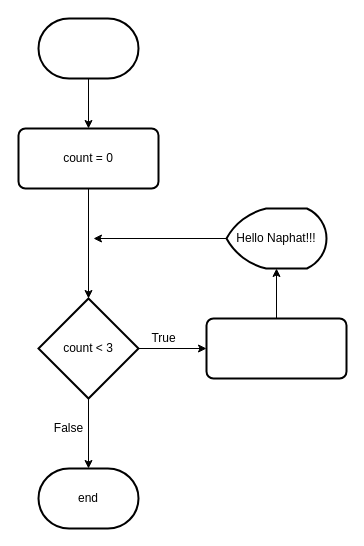
The diagram is 364 pixels wide and 546 high, and some of its shapes have lost their labels. The shapes that lost their labels are listed below. From the top down, each one's centre as x and y in pixels, then its label:
At point (88, 48): "start".
At point (276, 348): "count + 1".
